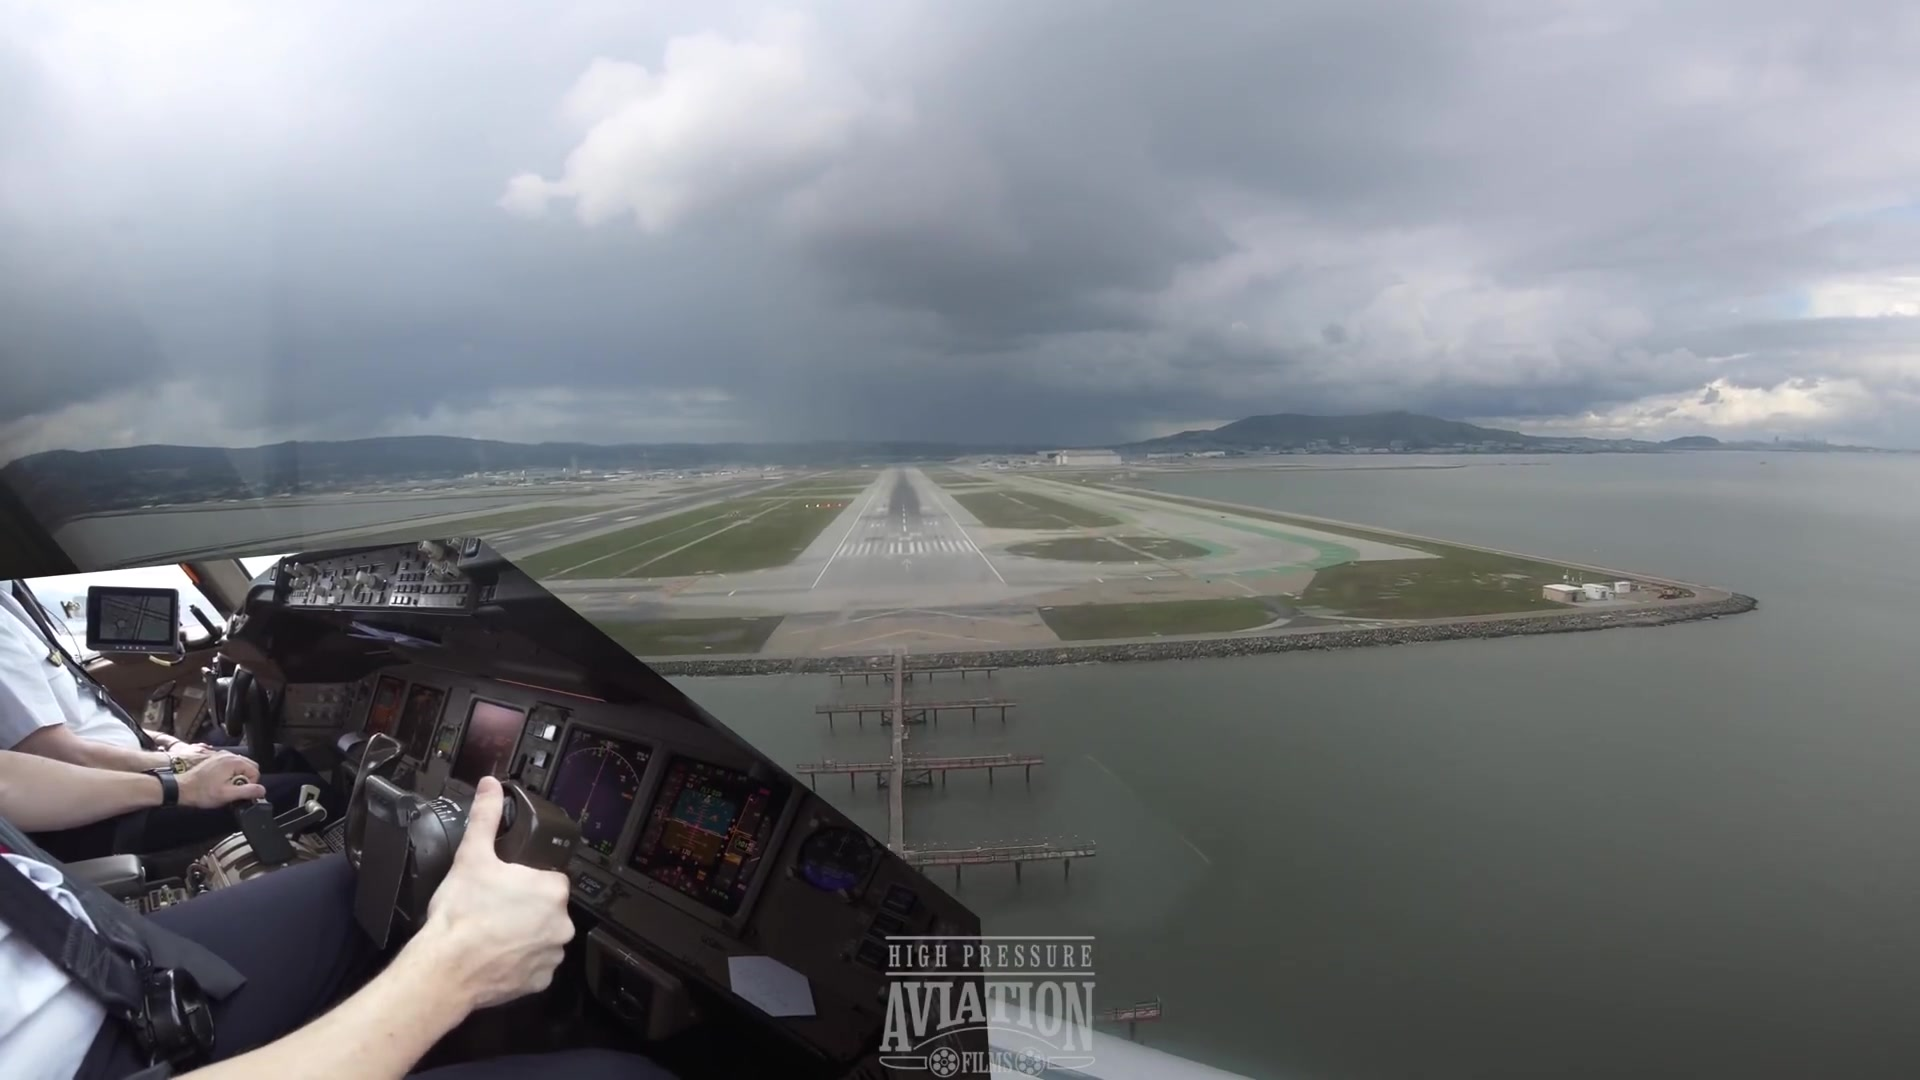entrance: (835, 535, 981, 559)
runway: (789, 471, 1018, 593)
